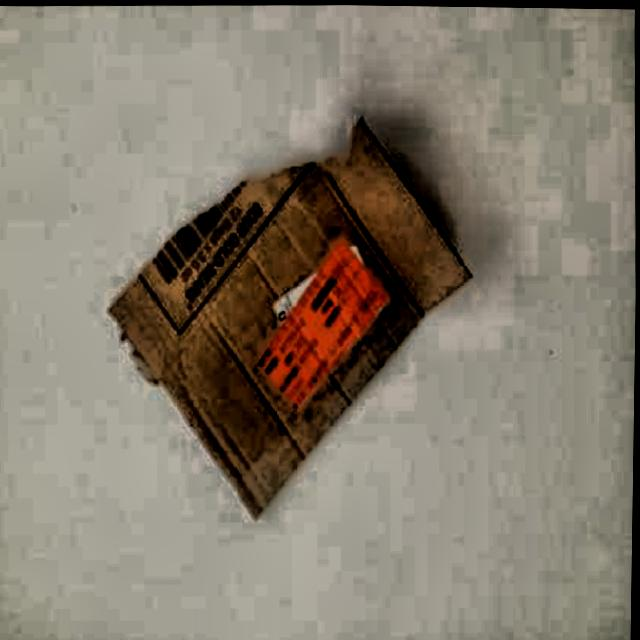Cardbox: (89, 109, 484, 537)
